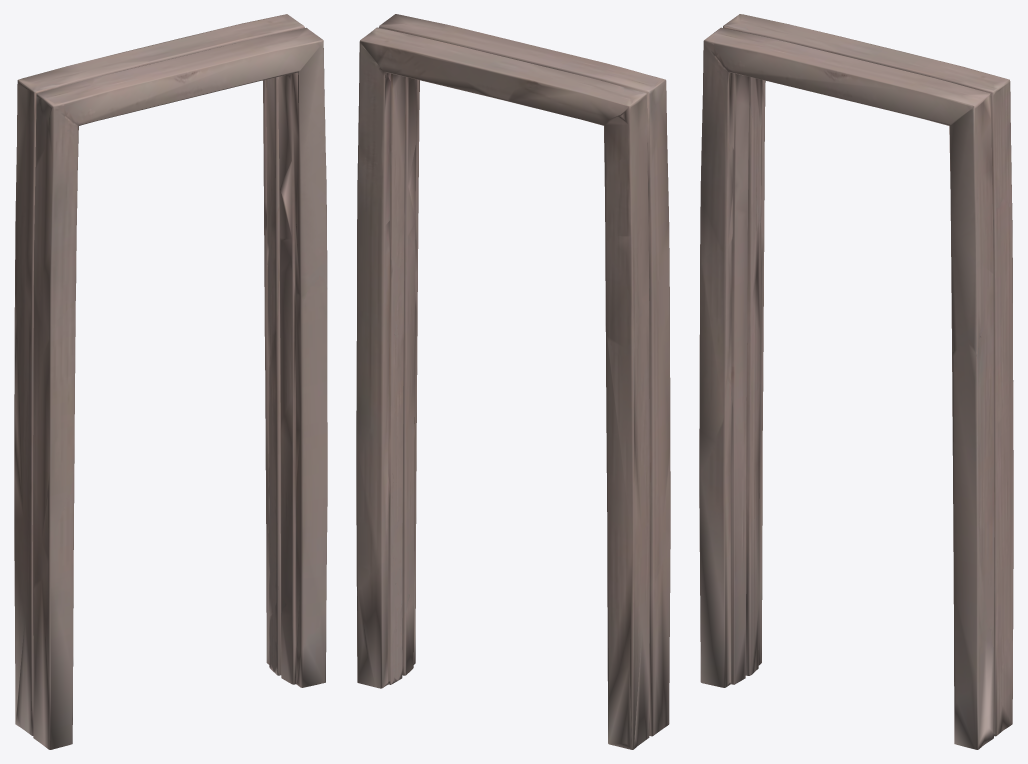
File: marco_en_madera_puerta.glb
The picture shows the model from 3 angles, left to right: view 1: azimuth 30°, elevation 25°; view 2: azimuth 150°, elevation 25°; view 3: azimuth 330°, elevation 25°; orthographic projection.
Visible parts, largest first — view 1: Object_4; view 2: Object_4; view 3: Object_4.
Part boxes in pixels (bbox=[...]): Object_4: bbox=[14, 14, 327, 749]; Object_4: bbox=[356, 14, 670, 749]; Object_4: bbox=[699, 14, 1013, 749].
Bounding box in the file's own units: 0.4929 × 1.09 × 0.1136.
Materials: 1 (1 with a texture image).
